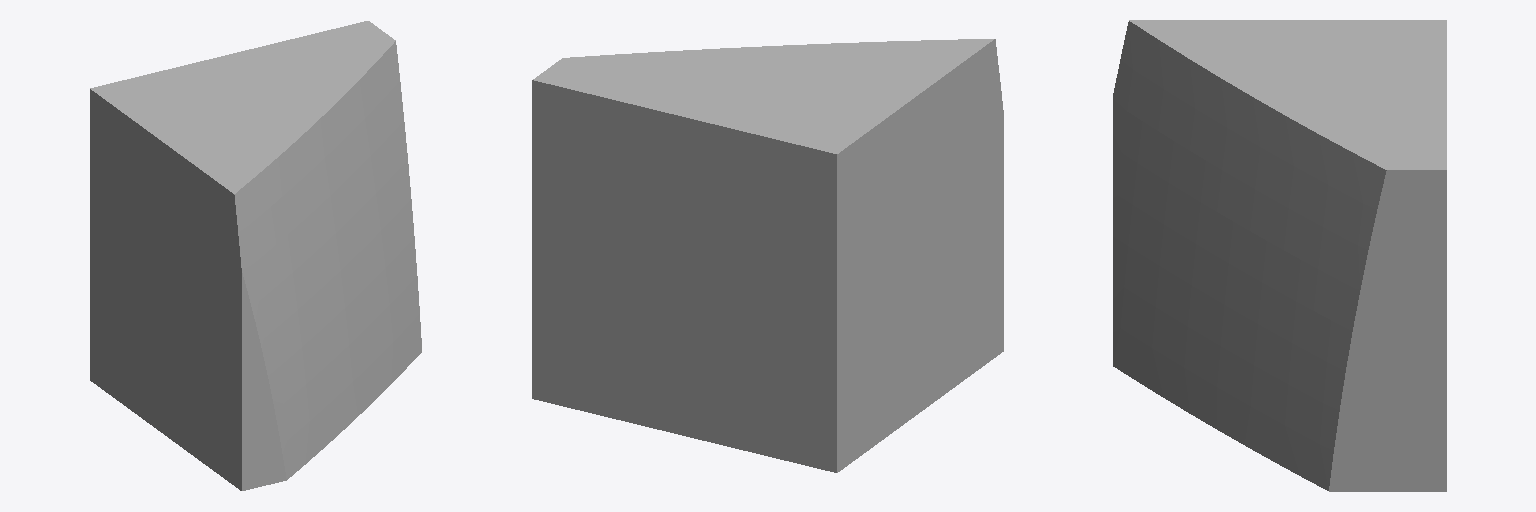
robot.urdf — root:
<?xml version='1.0' encoding='utf-8'?>
<robot name="root">
  <link name="link_001">
    <visual>
      <origin xyz="0 0 0" rpy="0 0 0" />
      <geometry>
        <mesh filename="ab63179d8ffb7ce0d9f554ad416ba73c519ca12bb16cb2656f4d5226c49ecc06_scale_012.stl" scale="1.0000E+00 1.0000E+00 1.0000E+00" />
      </geometry>
      <material name="">
        <color rgba="7.50E-01 7.50E-01 7.50E-01 1" />
      </material>
    </visual>
    <collision>
      <origin xyz="0 0 0" rpy="0 0 0" />
      <geometry>
        <mesh filename="ab63179d8ffb7ce0d9f554ad416ba73c519ca12bb16cb2656f4d5226c49ecc06_scale_012.stl" scale="1.0000E+00 1.0000E+00 1.0000E+00" />
      </geometry>
    </collision>
  </link>
</robot>

--- What the picture shows (computed from the rendered views, not written in the file) ---
The picture shows the robot from 3 angles, left to right: view 1: azimuth 30°, elevation 25°; view 2: azimuth 150°, elevation 25°; view 3: azimuth 270°, elevation 25°; orthographic projection.
Model root with 1 links and 0 joints (none), rooted at link_001, posed all joints at 0.
Links seen in each view (by area): view 1: link_001; view 2: link_001; view 3: link_001.
Boxes of the visible links, left/top/right/bottom form: link_001: left=90, top=21, right=421, bottom=490; link_001: left=532, top=39, right=1003, bottom=472; link_001: left=1113, top=20, right=1446, bottom=491.
Size in the robot's own frame: 0.12 by 0.1134 by 0.12 metres.
1 mesh visuals loaded from 1 distinct referenced files (1 binary STL).
